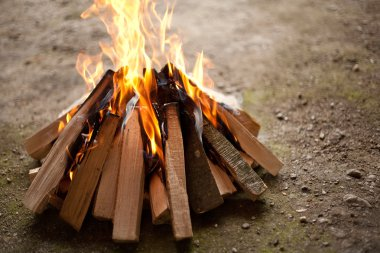fire: (87, 2, 191, 137)
